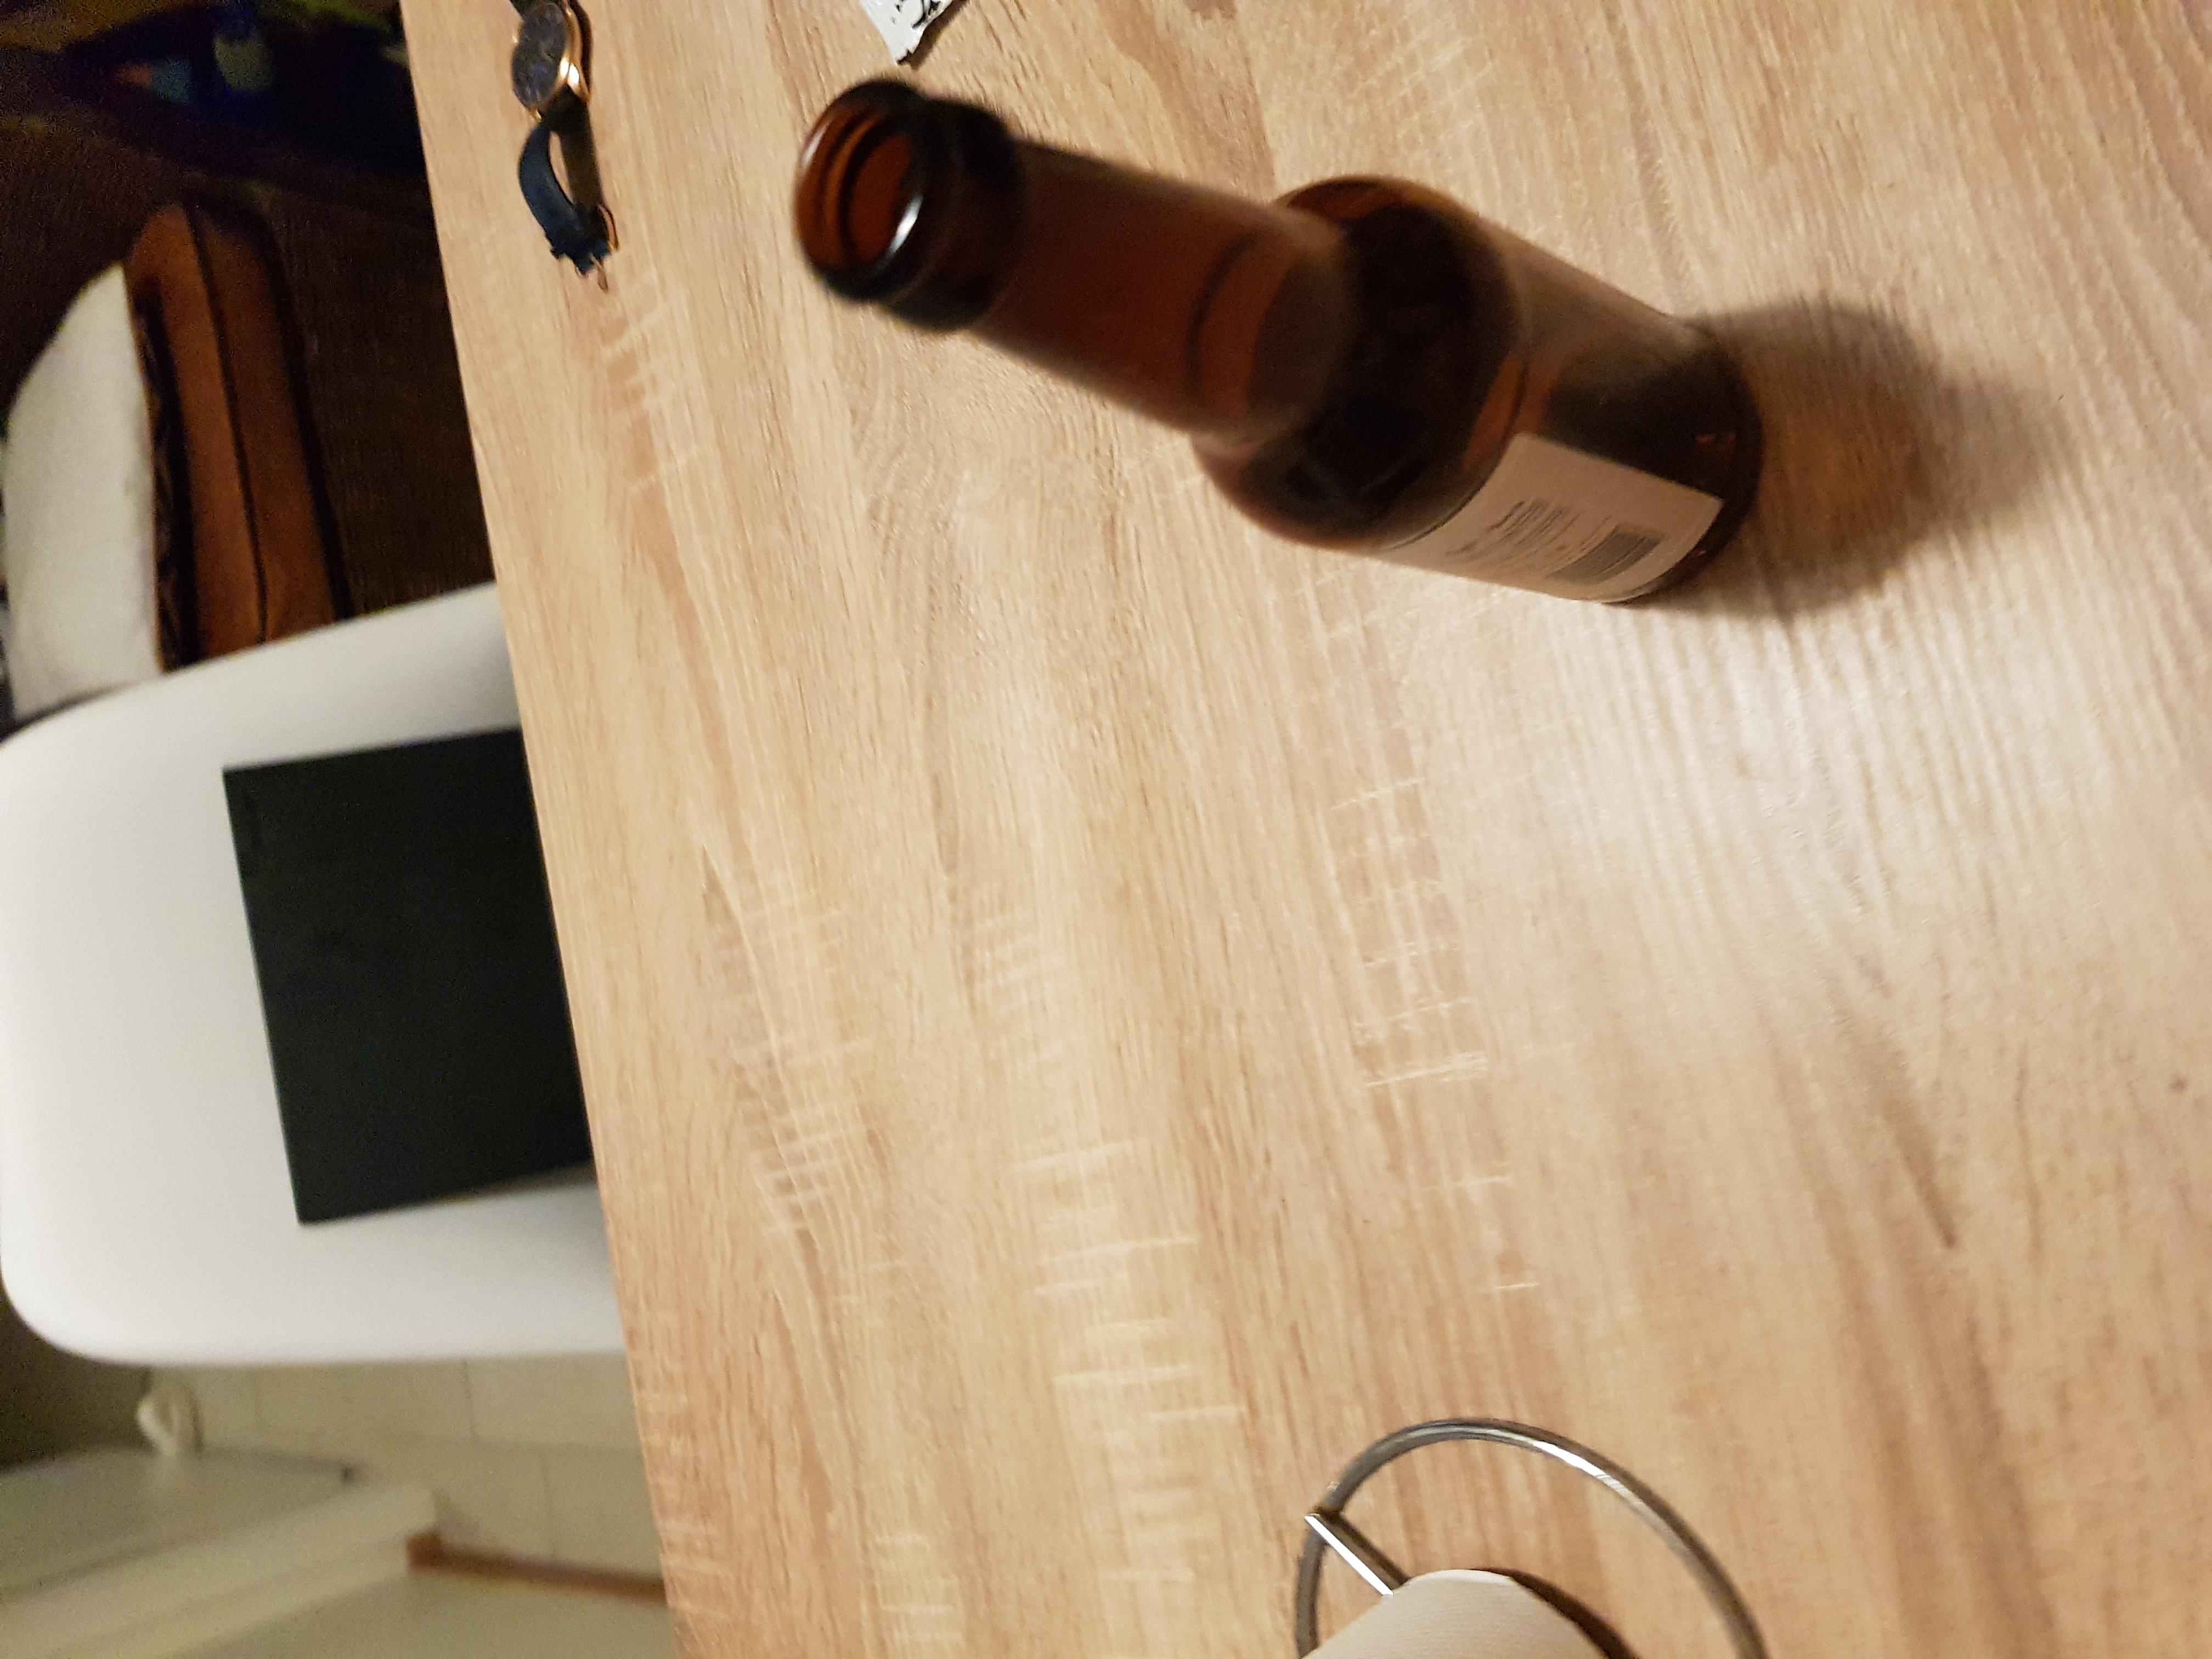bottle: (803, 66, 1737, 599)
